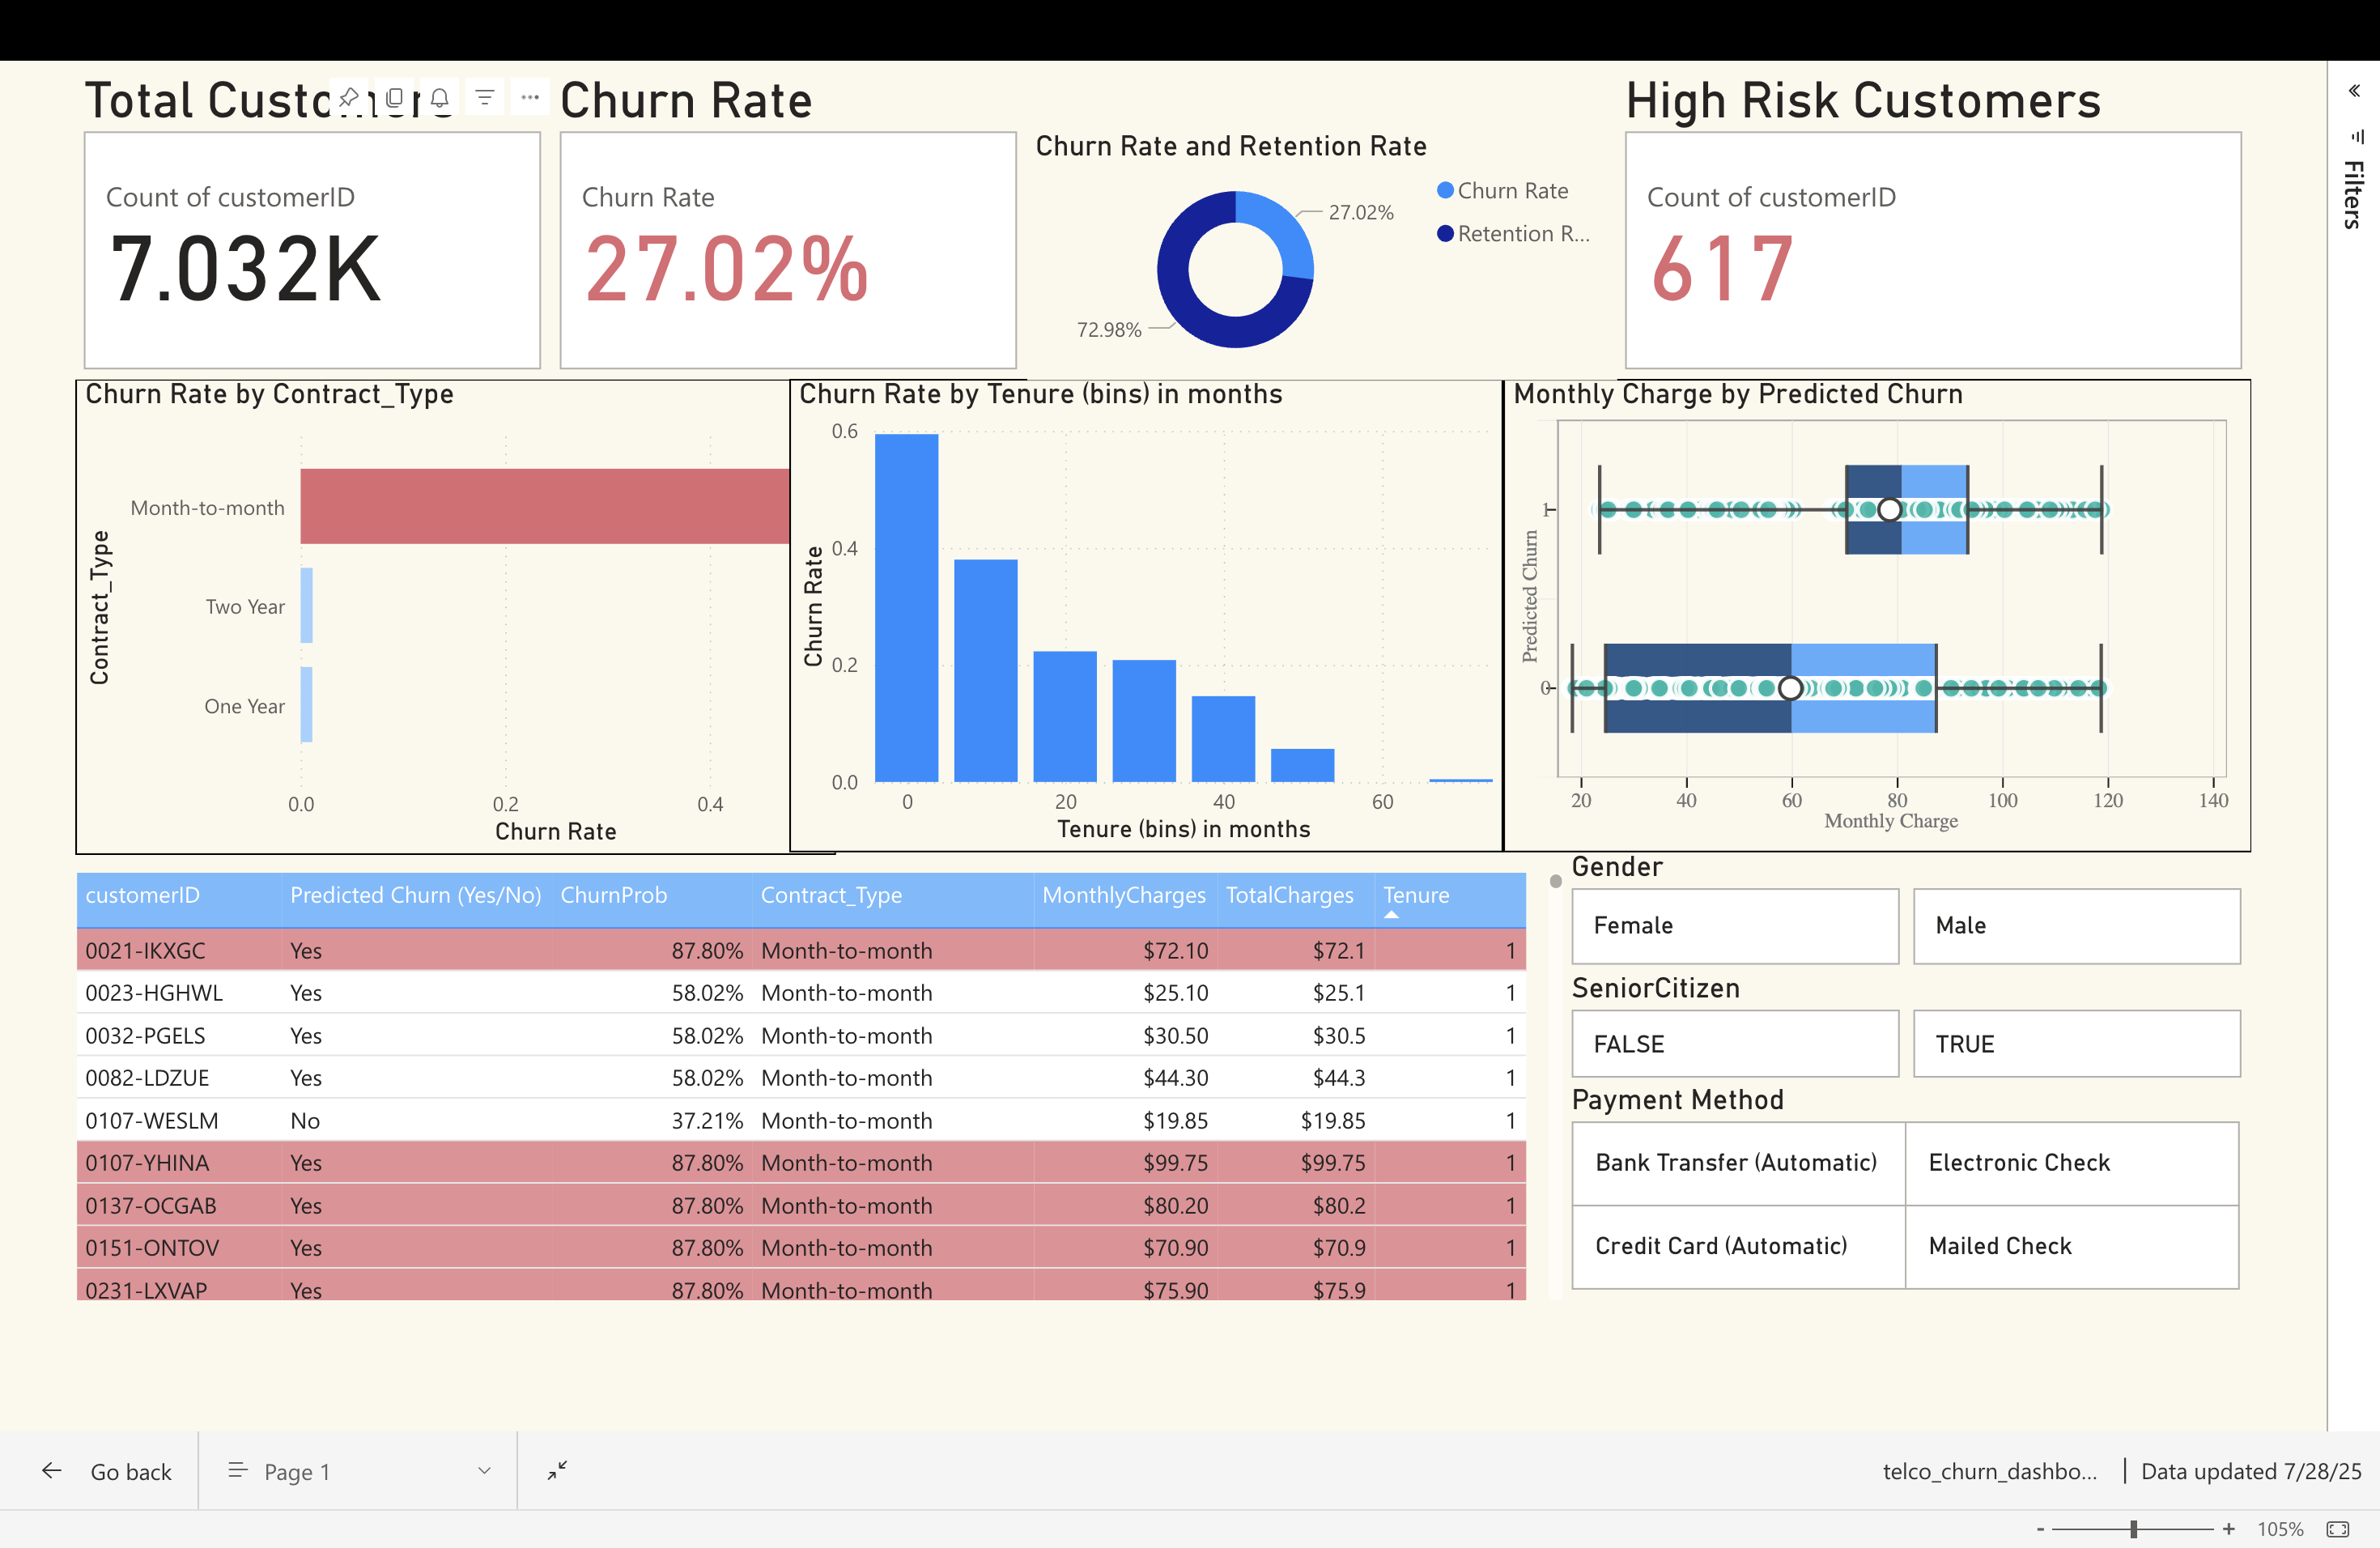

Layout of this report page (visuals, bound fields, positions):
{"tool":"powerbi","page":{"name":"Page 1","canvas":[1280,720],"ordinal":0},"visuals":[{"type":"barChart","fields":{"Y":["telco_churn_results.Churn Rate"],"Category":["telco_churn_results.Contract_Type"]},"box":[0,178.4,447.3,279.9],"z":0},{"type":"cardVisual","title":"Total Customers","fields":{"Data":["Count(telco_churn_results.customerID)"]},"box":[0,0,279.9,178.4],"z":1000},{"type":"cardVisual","title":"Churn Rate","fields":{"Data":["telco_churn_results.Churn Rate"]},"box":[279.9,0,279.9,178.4],"z":2000},{"type":"cardVisual","title":"High Risk Customers","fields":{"Data":["CountNonNull(telco_churn_results.customerID)"]},"box":[907,0,373.2,178.4],"z":4000},{"type":"columnChart","fields":{"Category":["telco_churn_results.tenure (bins)"],"Y":["telco_churn_results.Churn Rate"]},"box":[419.9,178.4,419.9,278.6],"z":5000},{"type":"BoxandWhiskerByMAQ1823AD39DT234AB532063E128AX","title":"Monthly Charge by Predicted Churn","fields":{"measure":["telco_churn_results.MonthlyCharge_Measure"],"categoryGroup":["telco_churn_results.PredictedChurn"],"category":["telco_churn_results.customerID"]},"box":[839.8,178.4,440.5,278.6],"z":6000},{"type":"tableEx","fields":{"Values":["telco_churn_results.customerID","telco_churn_results.Predicted Churn (Yes/No)","telco_churn_results.ChurnProb","telco_churn_results.Contract_Type","telco_churn_results.MonthlyCharges","telco_churn_results.TotalCharges","Sum(telco_churn_results.tenure)"]},"box":[0,468.3,875.5,251.9],"z":7000},{"type":"advancedSlicerVisual","fields":{"Values":["telco_churn_results.Gender"]},"box":[875.5,457.3,404.8,70.9],"z":8000},{"type":"advancedSlicerVisual","fields":{"Values":["telco_churn_results.SeniorCitizen"]},"box":[875.5,528.3,404.8,66],"z":9000},{"type":"advancedSlicerVisual","fields":{"Values":["telco_churn_results.Payment Method"]},"box":[875.5,594.2,404.8,126.2],"z":10000},{"type":"donutChart","fields":{"Y":["telco_churn_results.Churn Rate","telco_churn_results.Retention Rate"]},"box":[559.9,32.9,347.2,145.5],"z":10001}]}

Visuals, with their boxes on the page's 1280x720 design canvas (x1, y1, x2, y2). These are canvas units, not pixel positions in the 2380x1548 screenshot, which may show the page scaled, cropped or inside an application window:
barChart - telco_churn_results.Churn Rate x telco_churn_results.Contract_Type: box(0, 178, 447, 458)
"Total Customers" cardVisual: box(0, 0, 280, 178)
"Churn Rate" cardVisual: box(280, 0, 560, 178)
"High Risk Customers" cardVisual: box(907, 0, 1280, 178)
columnChart - telco_churn_results.tenure (bins) x telco_churn_results.Churn Rate: box(420, 178, 840, 457)
"Monthly Charge by Predicted Churn" BoxandWhiskerByMAQ1823AD39DT234AB532063E128AX: box(840, 178, 1280, 457)
tableEx - telco_churn_results.customerID x telco_churn_results.Predicted Churn (Yes/No): box(0, 468, 876, 720)
advancedSlicerVisual - telco_churn_results.Gender: box(876, 457, 1280, 528)
advancedSlicerVisual - telco_churn_results.SeniorCitizen: box(876, 528, 1280, 594)
advancedSlicerVisual - telco_churn_results.Payment Method: box(876, 594, 1280, 720)
donutChart - telco_churn_results.Churn Rate x telco_churn_results.Retention Rate: box(560, 33, 907, 178)
